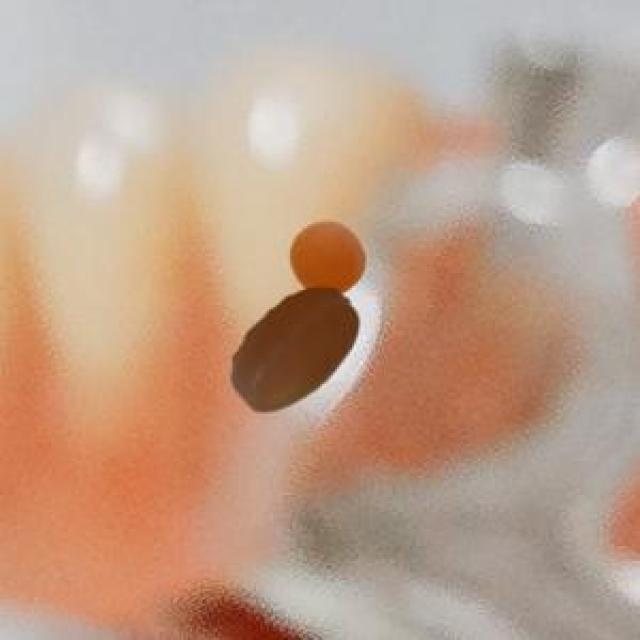Bactidol: (216, 212, 382, 438)
